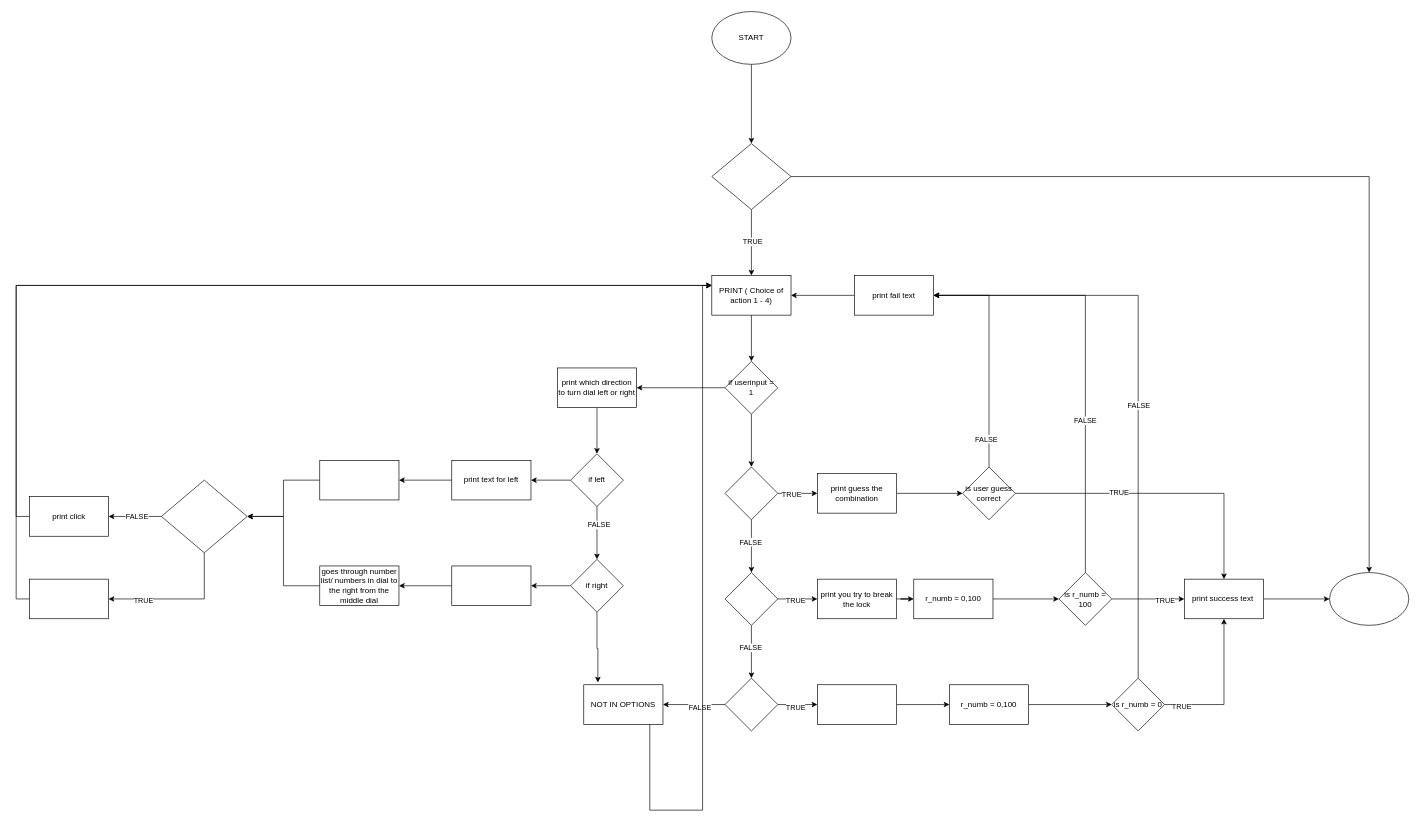
Image size: 1420x827. Some labels were removed from this diagram. Each missing label, with the centre of its shape:
"ch1_completed = false" goes at (751,176).
"END" goes at (1369,598).
"goes through number list/ numbers in dial to the left from the middle dial" goes at (359,480).
"if userinput = 2" goes at (751,493).
"if userinput = 3" goes at (751,598).
"if userinput = 4" goes at (751,704).
"is number on list == 1st, 2nd, or 3rd number of password" goes at (204,516).
"print clack" goes at (69,598).
"print text for right" goes at (491,585).
"print try and use magic" goes at (857,704).
